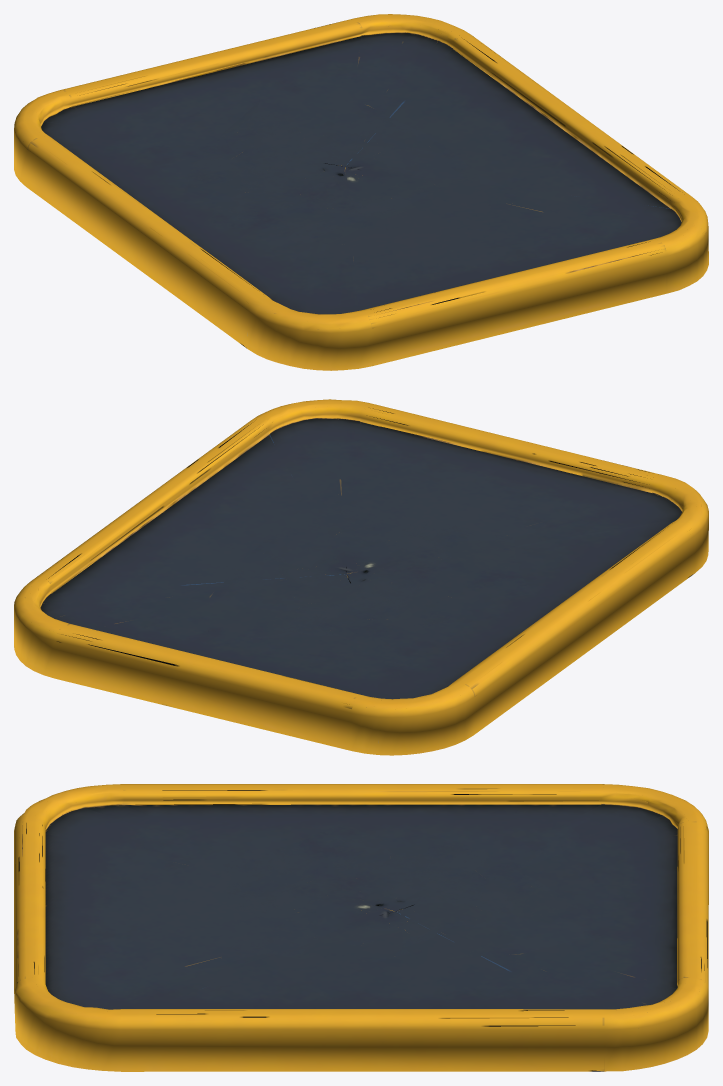
Rendered from Meshy_AI_model.glb.
3 renders of one model, top to bottom at view 1: azimuth 30°, elevation 25°; view 2: azimuth 150°, elevation 25°; view 3: azimuth 270°, elevation 25°, orthographic. The views are drawn at different scales.
Parts seen in each view (by area): view 1: geometry_0; view 2: geometry_0; view 3: geometry_0.
Part boxes in pixels (x1,y1,x2,y2): geometry_0: (14, 14, 708, 370); geometry_0: (14, 399, 708, 755); geometry_0: (14, 784, 708, 1071).
Size of the model in its own units: 0.7769 by 0.0796 by 0.9531.
Materials: 1 (1 with a texture image).
